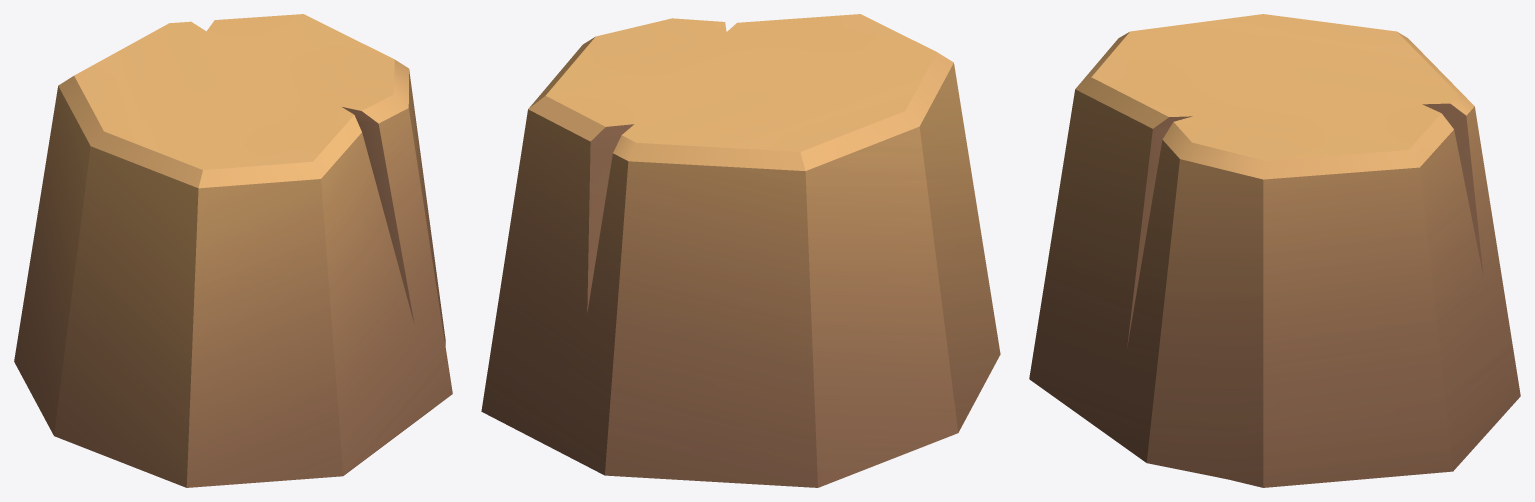
File: low rockb.fbx
The picture shows the model from 3 angles, left to right: view 1: azimuth 30°, elevation 25°; view 2: azimuth 150°, elevation 25°; view 3: azimuth 270°, elevation 25°; orthographic projection. The views are drawn at different scales.
Parts seen in each view (by area): view 1: low_rockb; view 2: low_rockb; view 3: low_rockb.
Part boxes in pixels (box(x1,y1,x2,y2)): low_rockb: box(14, 14, 452, 487); low_rockb: box(481, 14, 1000, 487); low_rockb: box(1029, 14, 1520, 487).
Size of the model in its own units: 7.19 by 5.13 by 7.58.
Materials: 1 (1 with a texture image).
